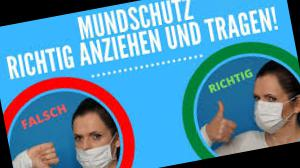mask_weared_incorrect: (71, 117, 117, 168)
with_mask: (248, 83, 293, 139)
